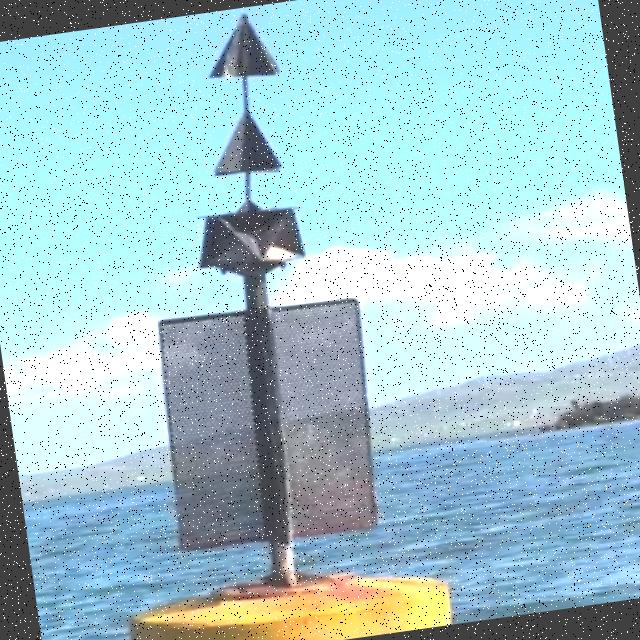marque: (35, 1, 460, 640)
